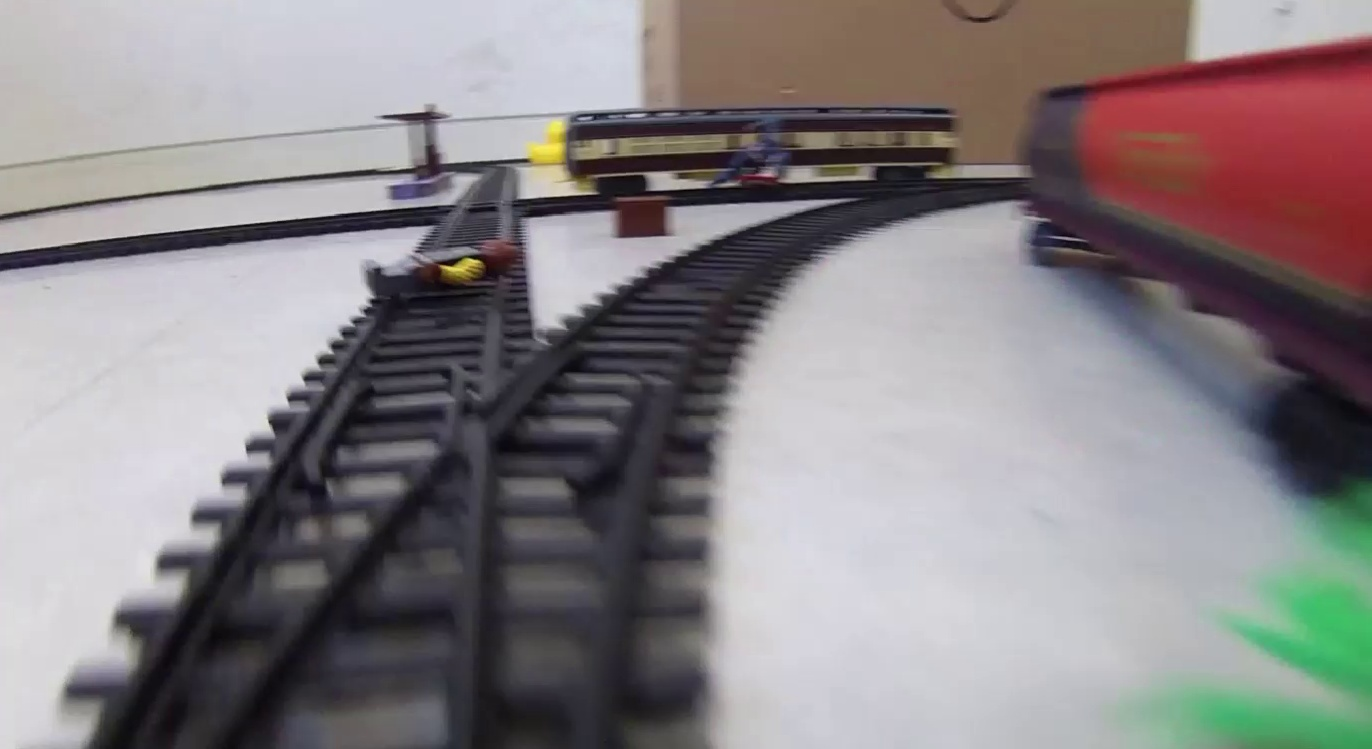box: (612, 193, 670, 241)
people: (362, 234, 523, 300)
